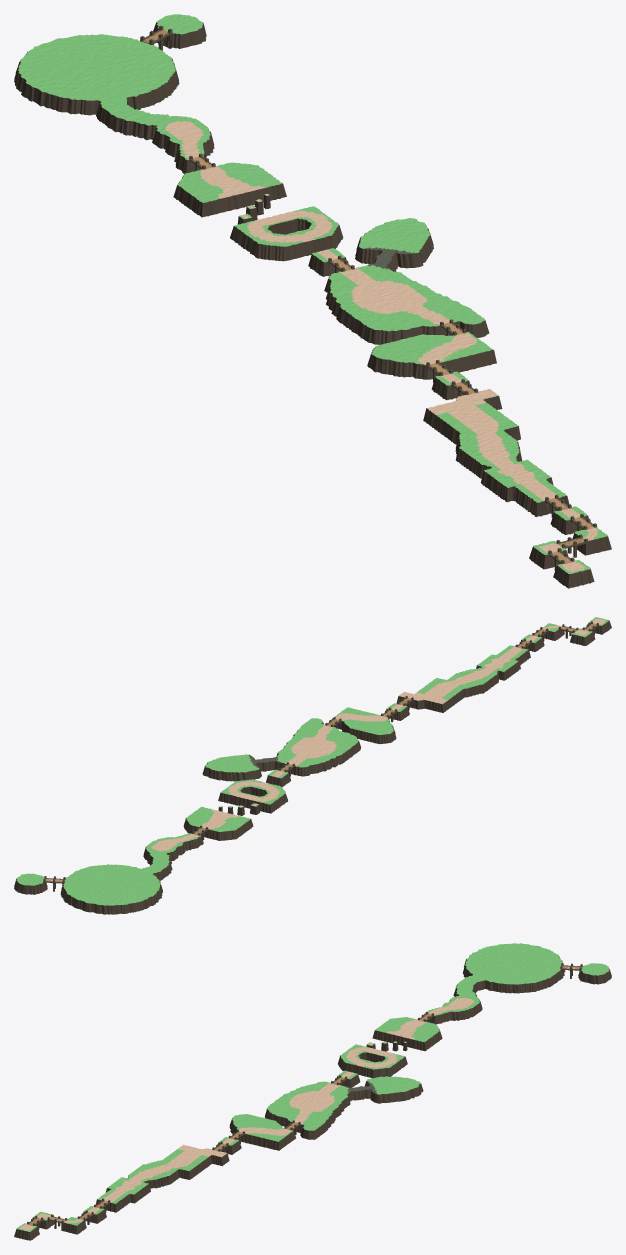
Rendered from NewFullMap.fbx.
3 views of the same model, one above another, from view 1: azimuth 30°, elevation 25°; view 2: azimuth 150°, elevation 25°; view 3: azimuth 330°, elevation 25° (orthographic). The views are drawn at different scales.
Parts seen in each view (by area): view 1: SectionFour, SectionTwo, SectionThree, SectionOne, IslandOne; view 2: SectionFour, SectionTwo, SectionOne, SectionThree; view 3: SectionTwo, SectionFour, SectionOne, SectionThree.
Boxes of the visible parts, x1=… form: SectionFour: x1=14, y1=14, x2=214, y2=173; SectionTwo: x1=324, y1=218, x2=496, y2=379; SectionThree: x1=173, y1=162, x2=343, y2=261; SectionOne: x1=423, y1=389, x2=569, y2=516; IslandOne: x1=553, y1=560, x2=594, y2=588; SectionFour: x1=14, y1=833, x2=203, y2=914; SectionTwo: x1=202, y1=707, x2=396, y2=781; SectionOne: x1=396, y1=645, x2=530, y2=712; SectionThree: x1=183, y1=779, x2=287, y2=840; SectionTwo: x1=229, y1=1076, x2=423, y2=1150; SectionFour: x1=424, y1=943, x2=611, y2=1024; SectionOne: x1=95, y1=1144, x2=229, y2=1212; SectionThree: x1=338, y1=1017, x2=442, y2=1078.
Size of the model in its own units: 23292 by 1430 by 92647.
